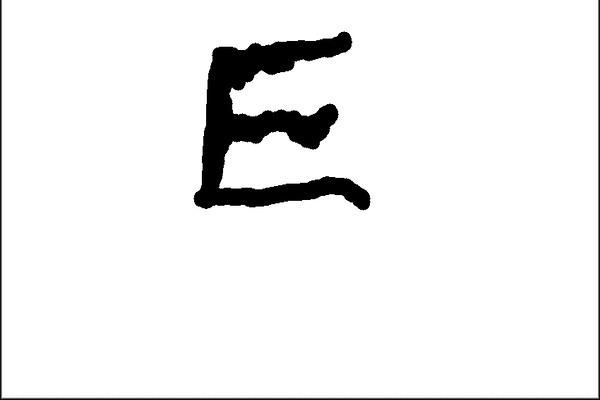E: (189, 27, 377, 217)
